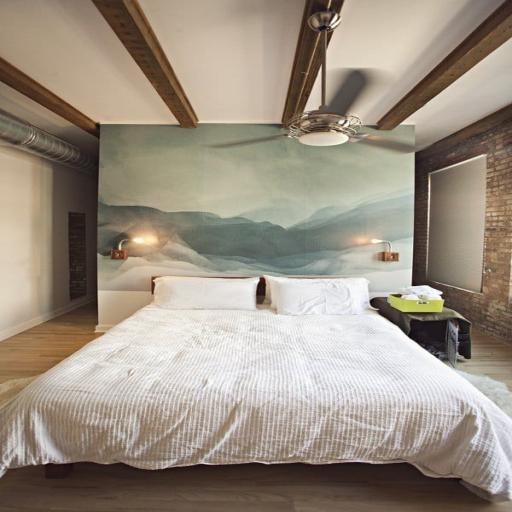bed: (0, 274, 509, 505)
